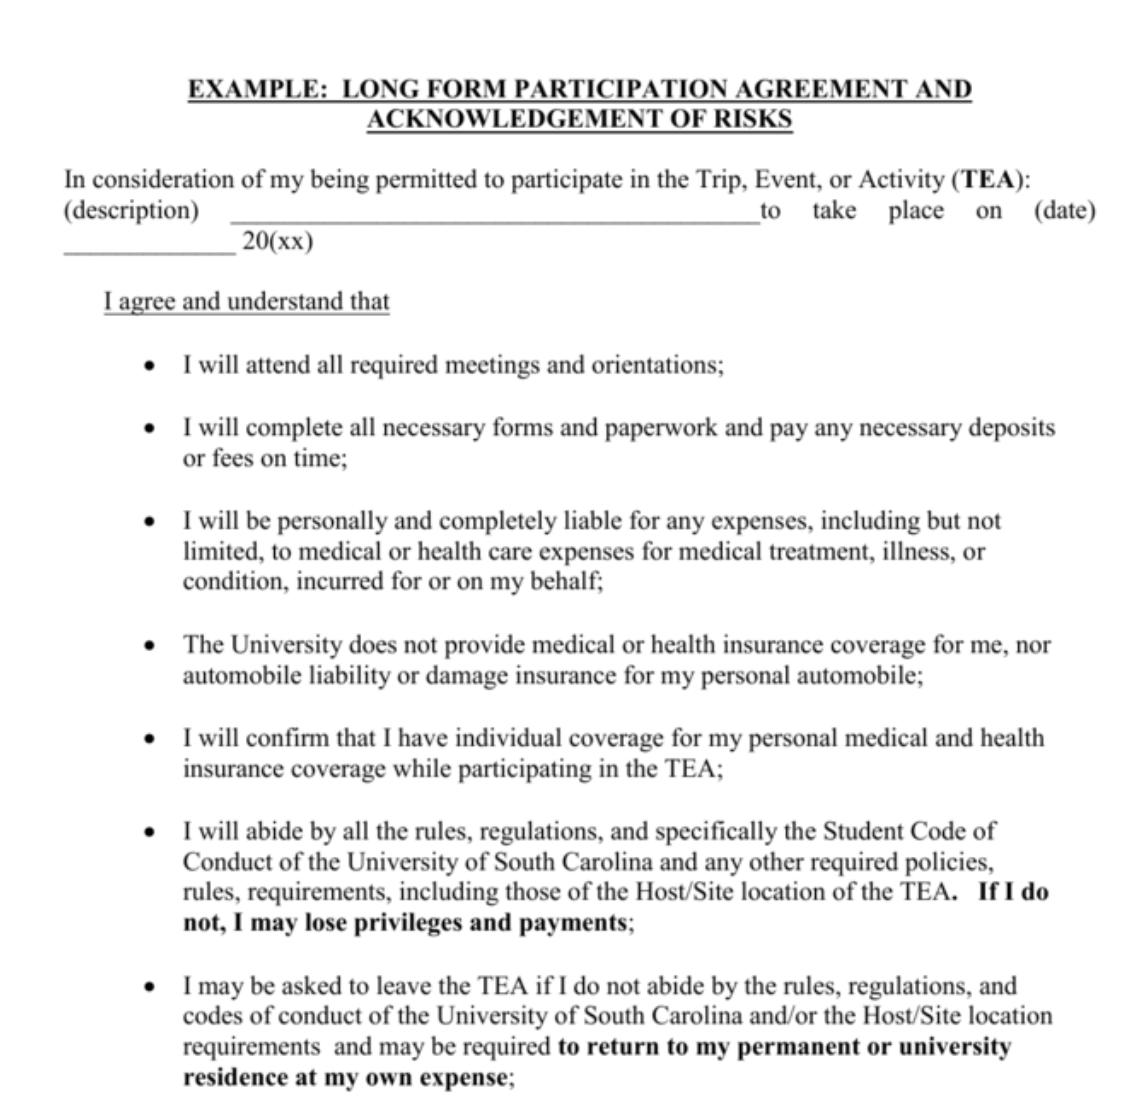textline: (221, 192, 763, 230), (53, 226, 246, 263)
